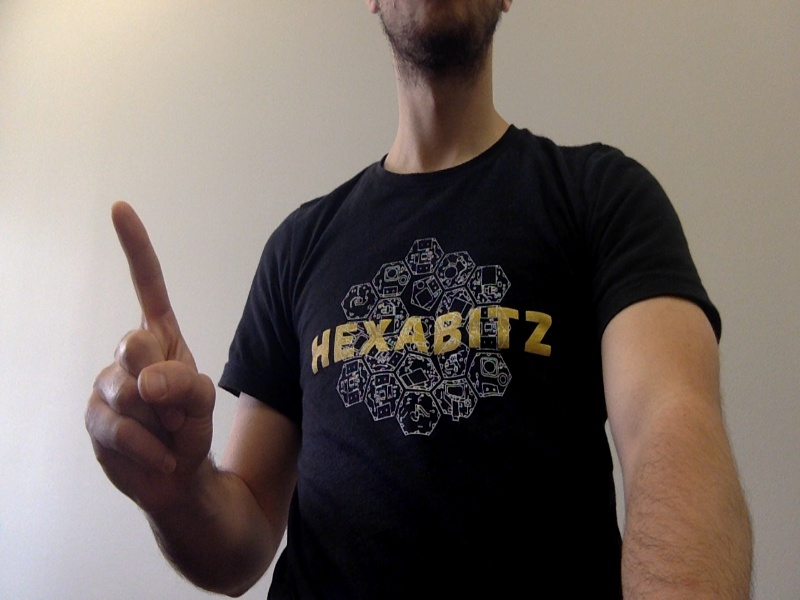1-hand: (80, 200, 213, 497)
